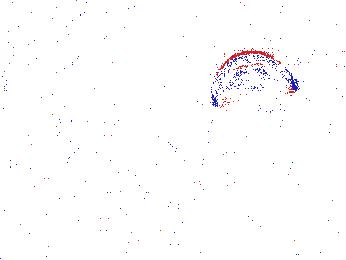moon jellyfish: (278, 1, 346, 81), (210, 51, 294, 109), (1, 1, 88, 46)
